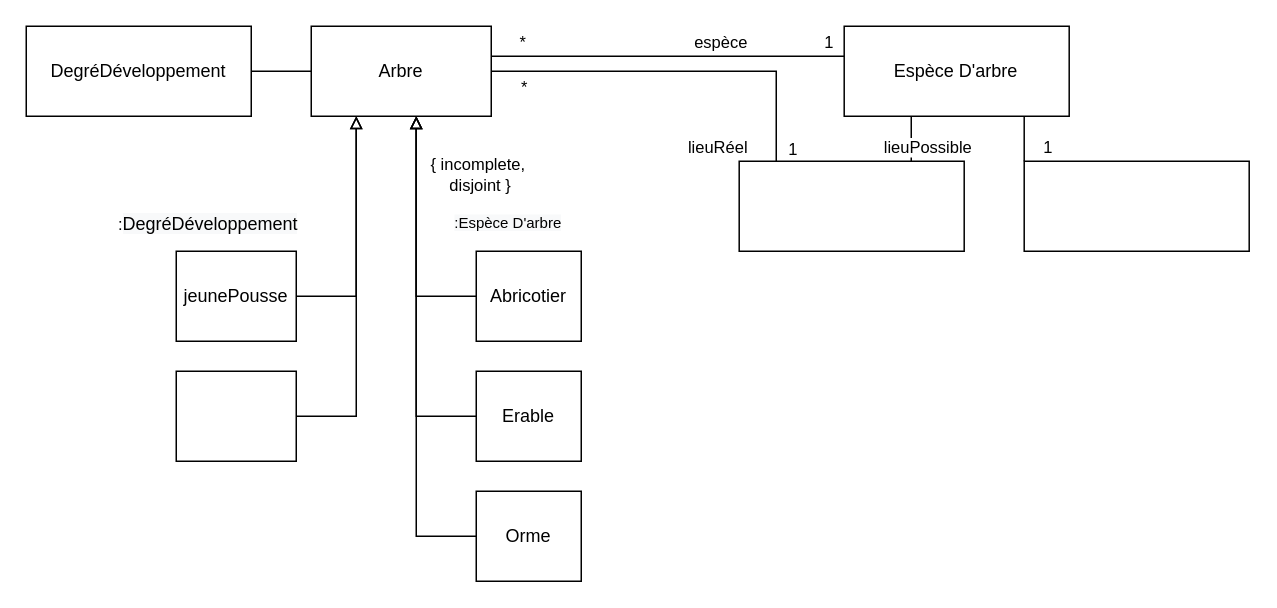
Image size: 1277x608. Some labels were removed from this diagram. Each missing label, with the centre of its shape:
"Adulte" belongs at (235,415).
"FormeFeuille" belongs at (1136,205).
"Localisation Géographique" belongs at (851,205).
